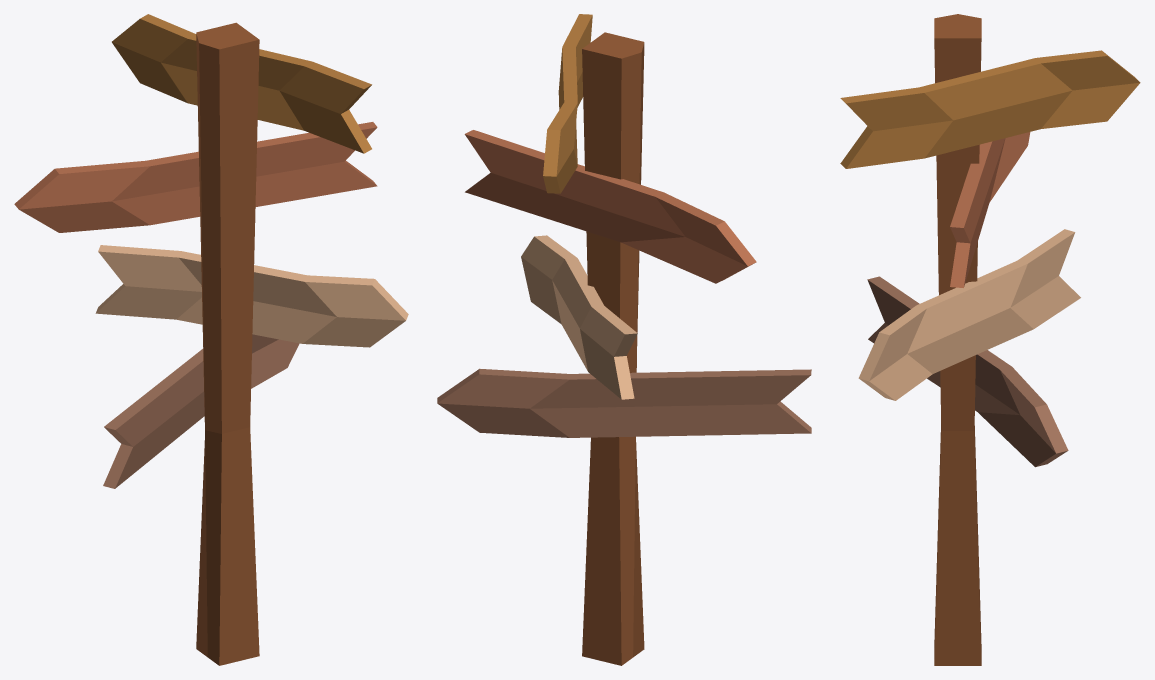
Rendered from road sign.fbx.
The picture shows the model from 3 angles, left to right: view 1: azimuth 30°, elevation 25°; view 2: azimuth 150°, elevation 25°; view 3: azimuth 270°, elevation 25°; orthographic projection. The views are drawn at different scales.
Parts seen in each view (by area): view 1: Cube, Cube.002, Cube.003, Cube.001, Cube.004; view 2: Cube, Cube.004, Cube.002, Cube.003, Cube.001; view 3: Cube.001, Cube, Cube.003, Cube.004, Cube.002.
Part boxes in pixels (left/top/right/bottom): Cube: left=196, top=22, right=259, bottom=665; Cube.002: left=14, top=122, right=377, bottom=232; Cube.003: left=95, top=245, right=408, bottom=347; Cube.001: left=112, top=14, right=371, bottom=153; Cube.004: left=103, top=334, right=299, bottom=488; Cube: left=582, top=32, right=644, bottom=665; Cube.004: left=437, top=368, right=811, bottom=437; Cube.002: left=464, top=130, right=756, bottom=283; Cube.003: left=521, top=235, right=637, bottom=399; Cube.001: left=543, top=14, right=592, bottom=193; Cube.001: left=840, top=50, right=1140, bottom=168; Cube: left=934, top=14, right=981, bottom=665; Cube.003: left=858, top=229, right=1080, bottom=400; Cube.004: left=867, top=276, right=1068, bottom=467; Cube.002: left=950, top=132, right=1030, bottom=287.
Size of the model in its own units: 325 by 587 by 255.
